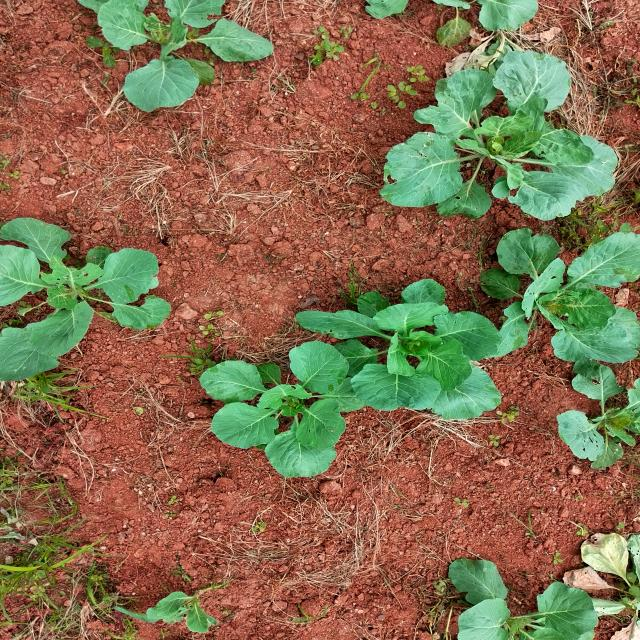Cabbage: (371, 0, 620, 250), (195, 248, 374, 482), (469, 200, 640, 412), (0, 190, 169, 398), (77, 0, 266, 126), (426, 552, 604, 640), (551, 371, 640, 480), (112, 567, 245, 635)
